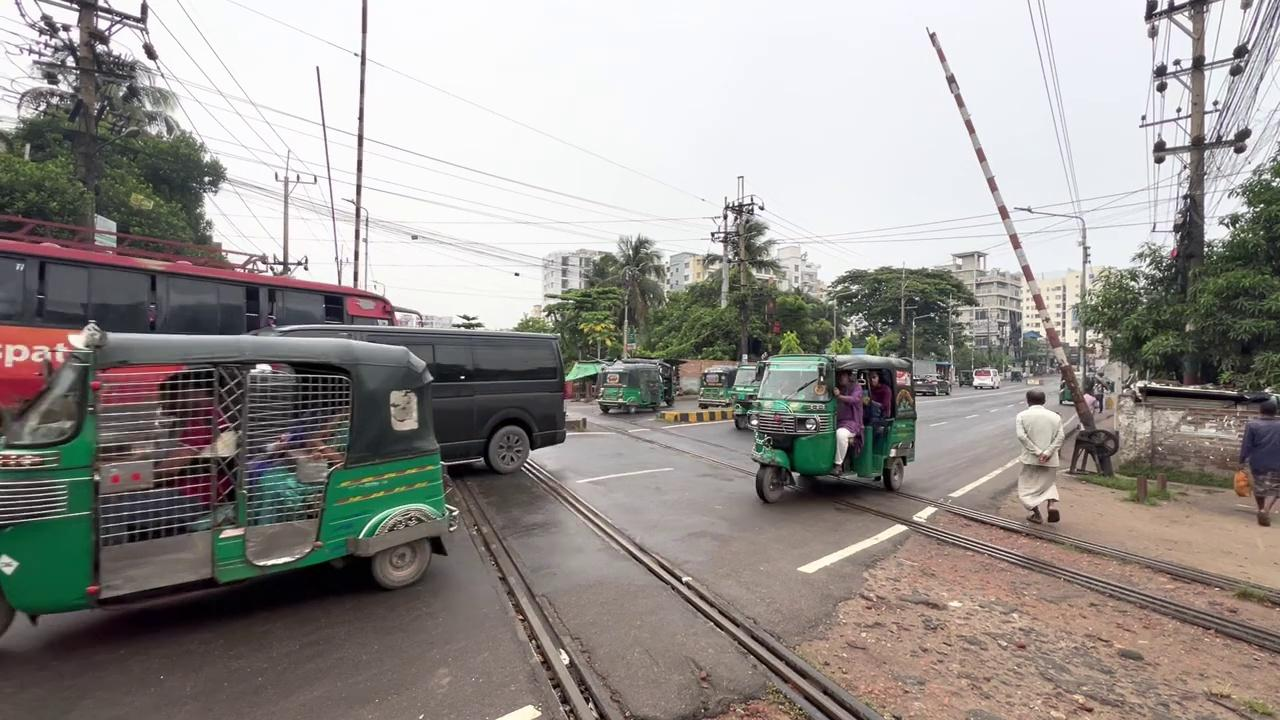Bench: (748, 352, 917, 503)
Fence: (1015, 389, 1065, 523), (1238, 399, 1279, 526), (828, 369, 864, 477), (863, 370, 892, 435)
Garbage: (1014, 205, 1090, 392), (350, 0, 368, 289)
Motorcycle: (445, 453, 882, 718), (827, 481, 1278, 654)
Railroad-crossing: (823, 264, 979, 358)
Rickshaw: (0, 320, 459, 638), (597, 359, 661, 414), (697, 365, 737, 409)
